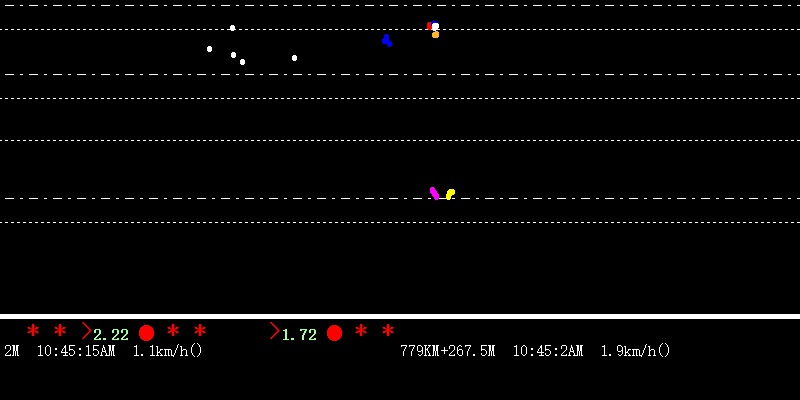circle: (137, 322, 155, 341), (326, 322, 342, 343)
face_down: (379, 28, 394, 49)
face_s: (425, 18, 441, 40)
star: (191, 320, 212, 341), (164, 321, 182, 341), (49, 322, 69, 338), (23, 322, 41, 339), (352, 320, 367, 339), (382, 323, 394, 337)
